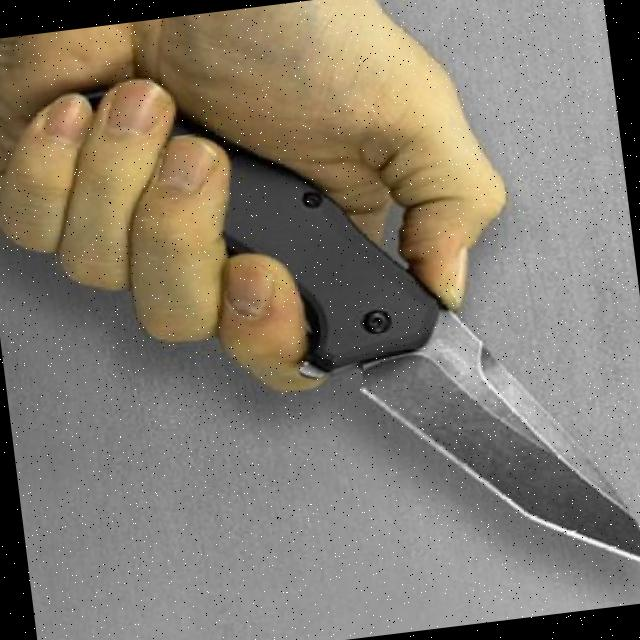Knife: (64, 0, 640, 633)
